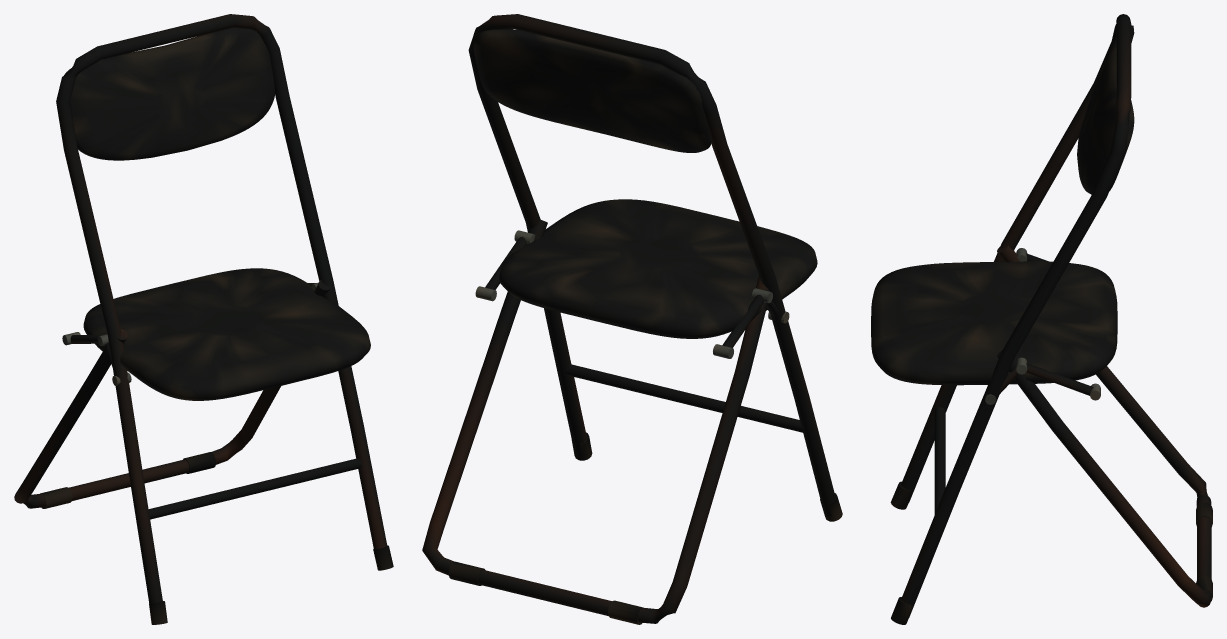
File: MetalSteezy_Chaise_Pliante_Noire.fbx
The picture shows the model from 3 angles, left to right: view 1: azimuth 30°, elevation 25°; view 2: azimuth 150°, elevation 25°; view 3: azimuth 270°, elevation 25°; orthographic projection. The views are drawn at different scales.
Visible parts, largest first — view 1: MetalSteezy_Chaise_Pliante_Noire; view 2: MetalSteezy_Chaise_Pliante_Noire; view 3: MetalSteezy_Chaise_Pliante_Noire.
Boxes of the visible parts, x1=… form: MetalSteezy_Chaise_Pliante_Noire: x1=14, y1=14, x2=393, y2=624; MetalSteezy_Chaise_Pliante_Noire: x1=422, y1=14, x2=842, y2=624; MetalSteezy_Chaise_Pliante_Noire: x1=871, y1=14, x2=1212, y2=624.
Size of the model in its own units: 0.478 by 0.5615 by 0.9309.
